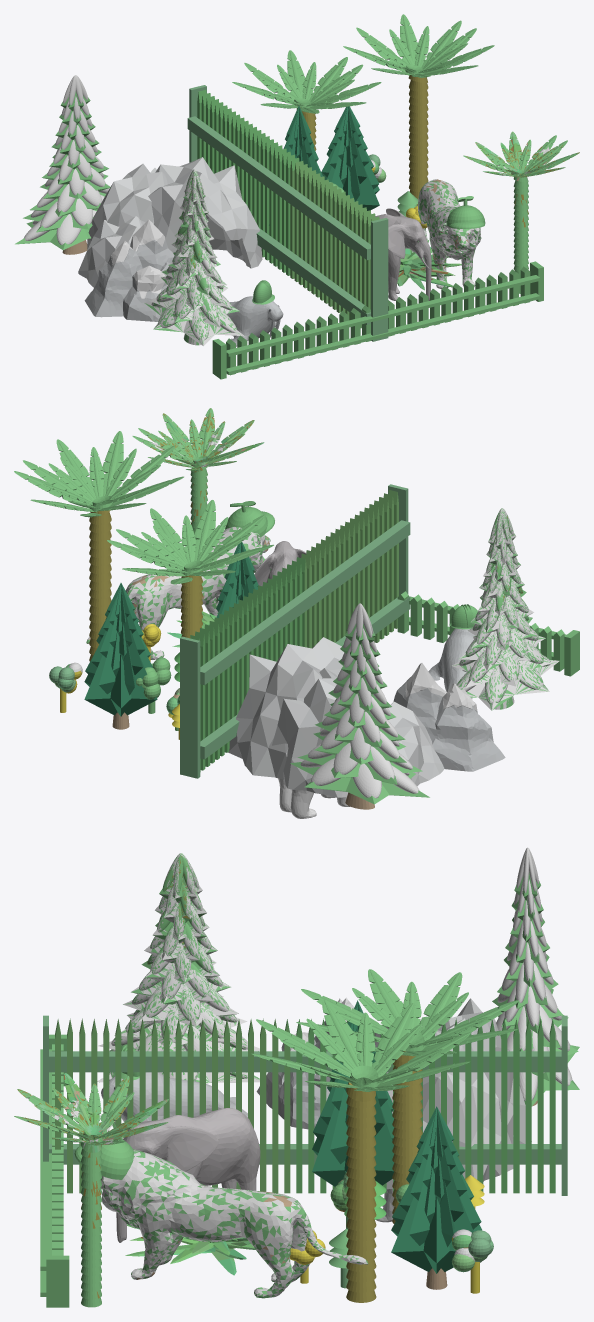
File: Tremendous Lappi.glb
3 renders of one model, top to bottom at view 1: azimuth 30°, elevation 25°; view 2: azimuth 150°, elevation 25°; view 3: azimuth 270°, elevation 25°, orthographic. The views are drawn at different scales.
Visible parts, largest first — view 1: Mesh_Mesh_head_geo.001_lambert2SG.001; view 2: Mesh_Mesh_head_geo.001_lambert2SG.001; view 3: Mesh_Mesh_head_geo.001_lambert2SG.001.
Part boxes in pixels (box(x1,y1,x2,y2)): Mesh_Mesh_head_geo.001_lambert2SG.001: box(15, 14, 579, 379); Mesh_Mesh_head_geo.001_lambert2SG.001: box(14, 408, 579, 818); Mesh_Mesh_head_geo.001_lambert2SG.001: box(14, 847, 579, 1307).
Size of the model in its own units: 256 by 137 by 215.
